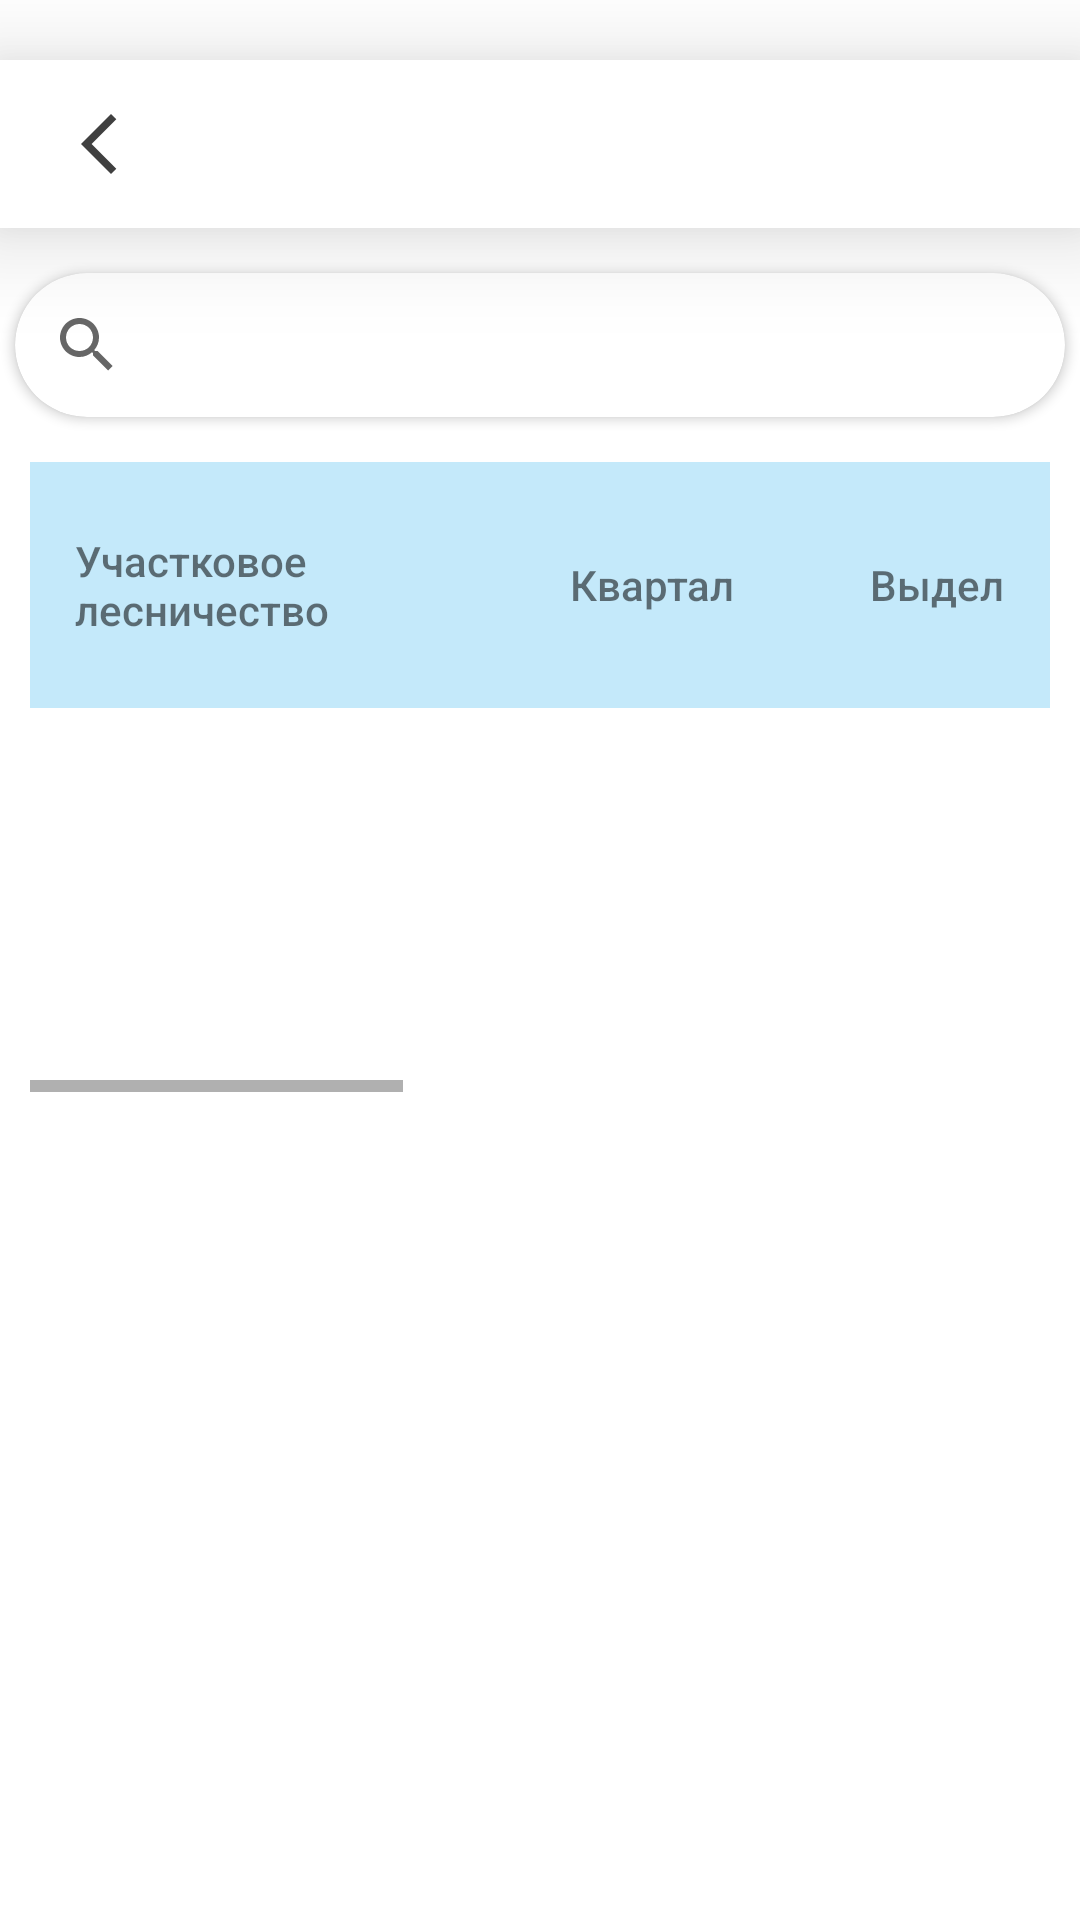

Where icons sit on this 1080px×1920px app screen, as (x1=x1, y1=y1, x2=x2, y2=y2):
back arrow: (x1=81, y1=114, x2=116, y2=174)
